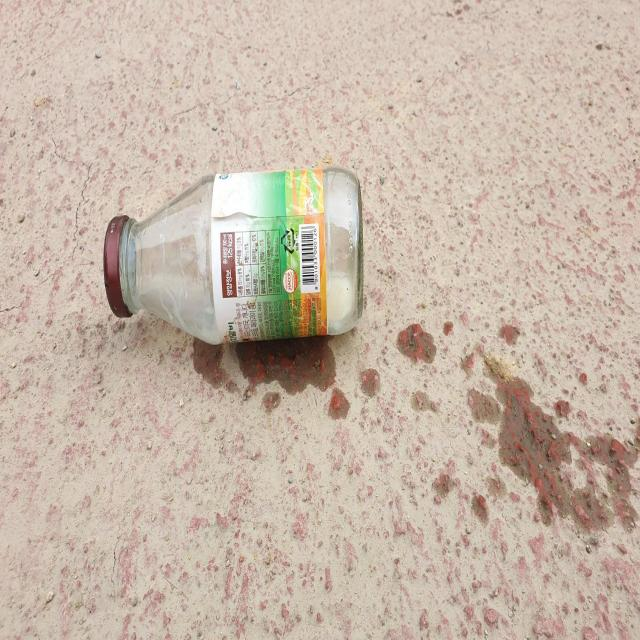glass: (103, 166, 363, 343)
